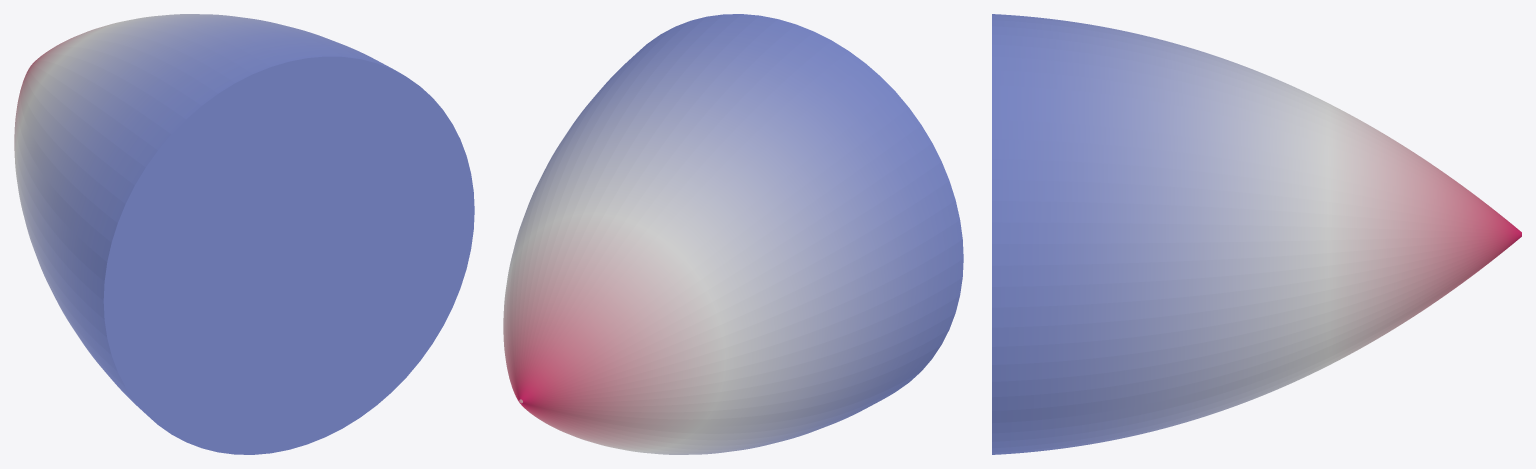
Rendered from body_unlit.glb.
The picture shows the model from 3 angles, left to right: view 1: azimuth 30°, elevation 25°; view 2: azimuth 150°, elevation 25°; view 3: azimuth 270°, elevation 25°; orthographic projection. The views are drawn at different scales.
Parts seen in each view (by area): view 1: world; view 2: world; view 3: world.
Boxes of the visible parts, x1,y1,x2,y2 form: world: (14, 14, 474, 454); world: (503, 14, 963, 454); world: (992, 14, 1521, 454).
Bounding box in the file's own units: 1 × 1 × 1.2.
